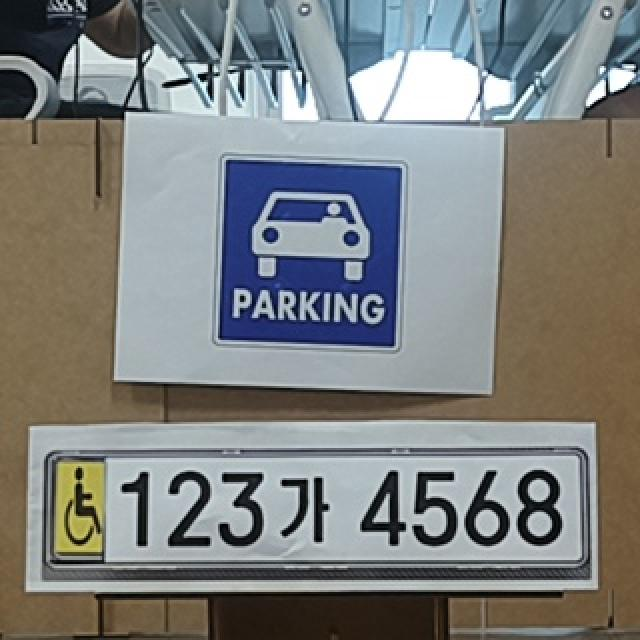disabled: (53, 456, 106, 557)
plate: (44, 449, 588, 575)
